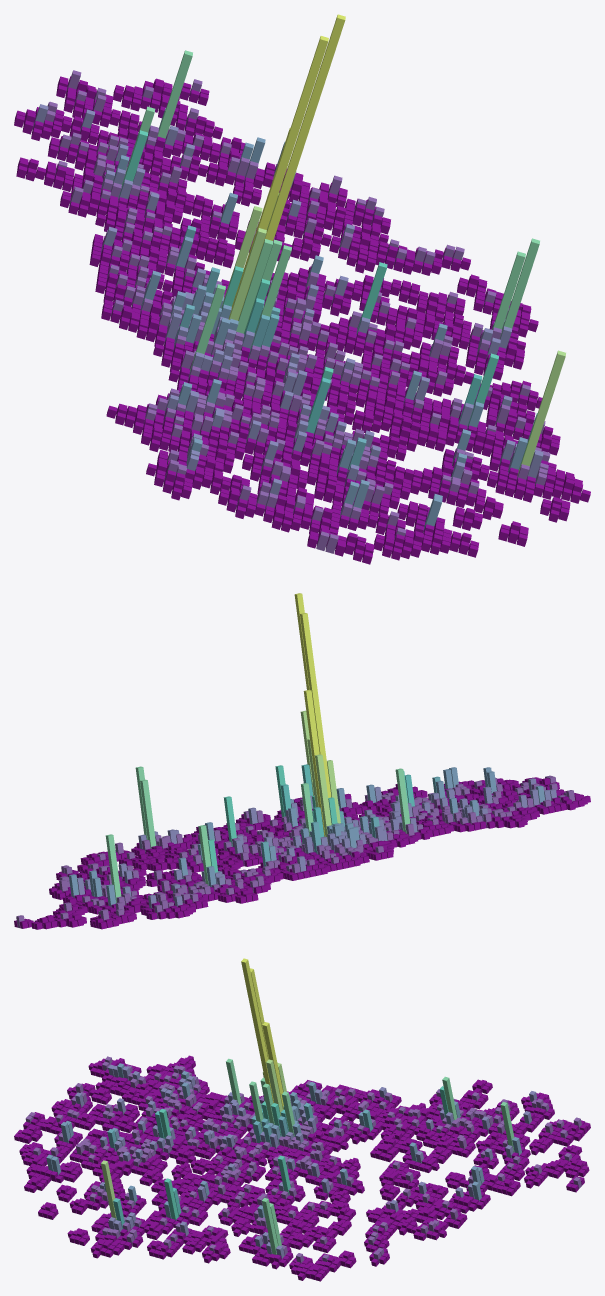
The model's file is doctors.gltf.
3 renders of one model, top to bottom at view 1: azimuth 30°, elevation 25°; view 2: azimuth 150°, elevation 25°; view 3: azimuth 270°, elevation 25°, orthographic. The views are drawn at different scales.
Visible parts, largest first — view 1: Object, Object.001, Object.002, Object.003, Object.007, Object.009, Object.008, Object.006, Object.004, Object.005; view 2: Object, Object.001, Object.002, Object.003, Object.007, Object.009, Object.008, Object.006, Object.005, Object.004; view 3: Object, Object.001, Object.002, Object.007, Object.003, Object.009, Object.006, Object.004, Object.008, Object.005.
Part boxes in pixels (box(x1,y1,x2,y2)): Object: box(14, 76, 590, 564); Object.001: box(43, 70, 550, 553); Object.002: box(32, 104, 543, 506); Object.003: box(113, 108, 527, 532); Object.007: box(122, 50, 539, 370); Object.009: box(228, 14, 345, 320); Object.008: box(221, 193, 565, 476); Object.006: box(118, 130, 498, 426); Object.004: box(174, 225, 366, 475); Object.005: box(242, 298, 537, 470); Object: box(14, 777, 590, 929); Object.001: box(16, 775, 575, 927); Object.002: box(77, 778, 556, 908); Object.003: box(68, 767, 544, 907); Object.007: box(105, 766, 410, 902); Object.009: box(294, 593, 331, 836); Object.008: box(300, 710, 340, 844); Object.006: box(208, 765, 408, 872); Object.005: box(280, 764, 414, 837); Object.004: box(260, 776, 440, 866); Object: box(14, 1055, 590, 1281); Object.001: box(25, 1056, 581, 1263); Object.002: box(75, 1065, 537, 1258); Object.007: box(226, 1058, 514, 1254); Object.003: box(46, 1063, 521, 1218); Object.009: box(241, 958, 283, 1109); Object.006: box(159, 1086, 448, 1220); Object.004: box(107, 1102, 373, 1151); Object.008: box(101, 1059, 286, 1219); Object.005: box(113, 1106, 288, 1228).
Bounding box in the file's own units: 6.72 × 4.97 × 9.98.
